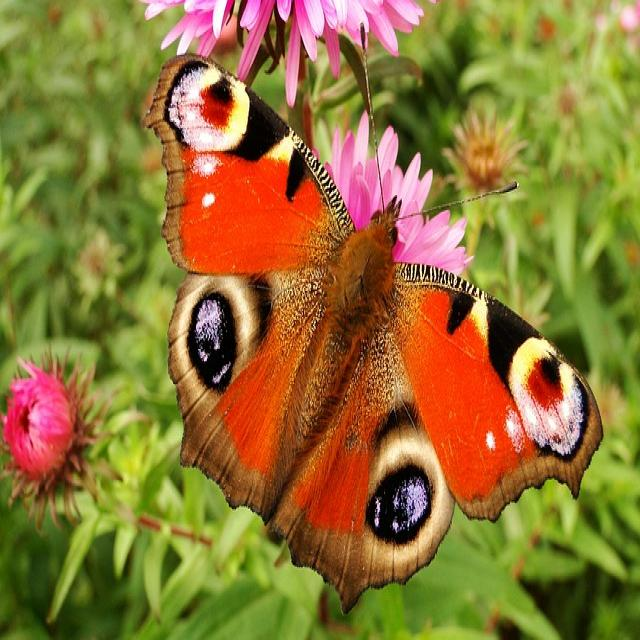butterfly: (146, 53, 601, 610)
